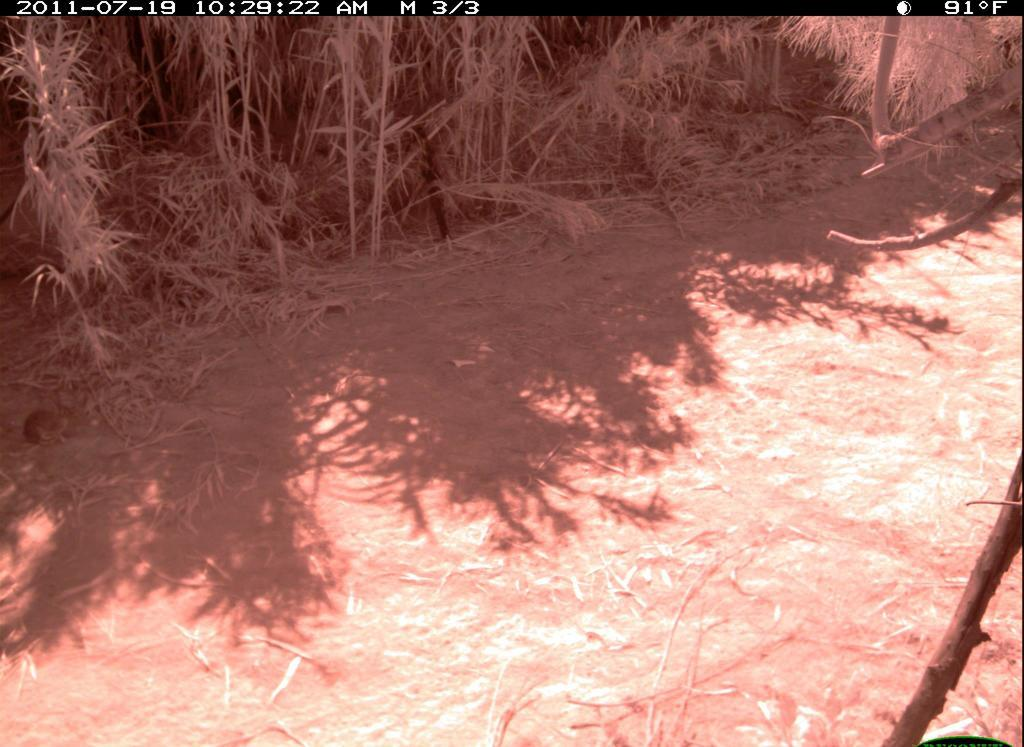rabbit: (18, 399, 91, 454)
